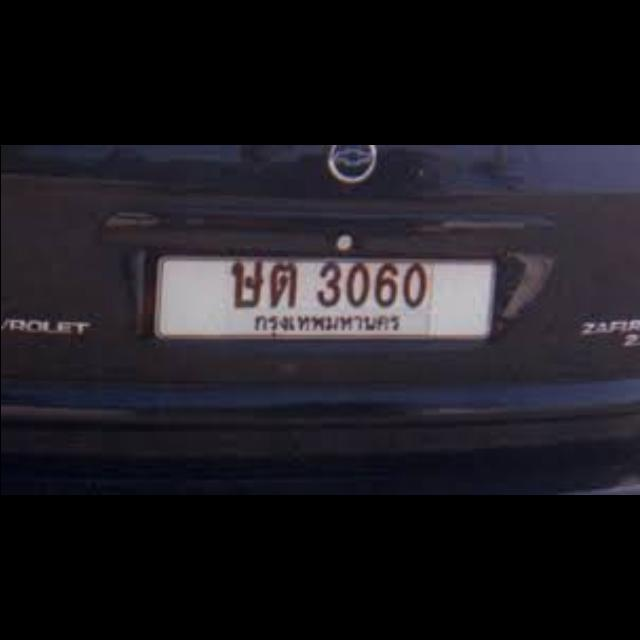licenseplate: (156, 248, 494, 346)
